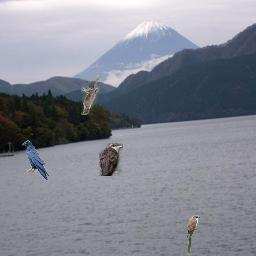Crow: (22, 140, 49, 180)
Cuckoo: (99, 143, 123, 176), (81, 75, 100, 115), (187, 215, 200, 255)
